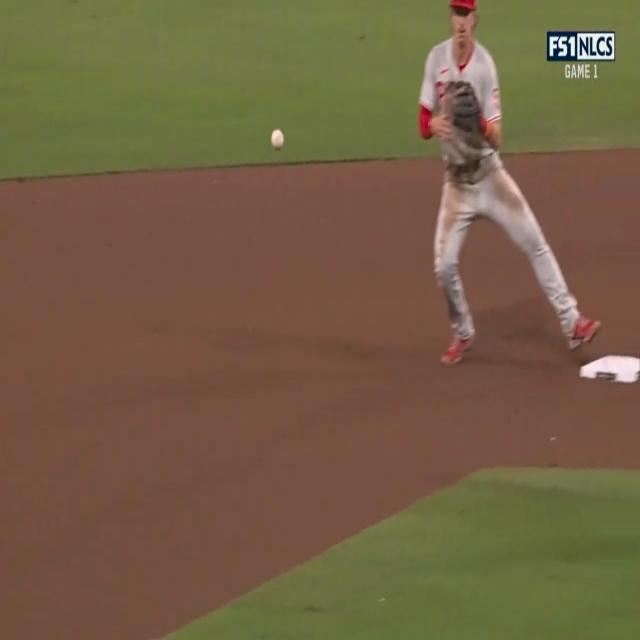baseball: (270, 128, 284, 152)
